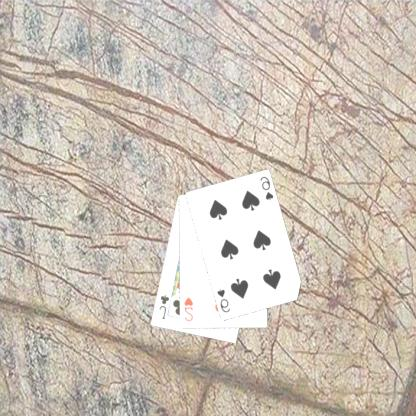2H: (183, 294, 196, 324)
6S: (259, 174, 276, 202), (216, 286, 232, 314)
JC: (158, 292, 172, 321)
